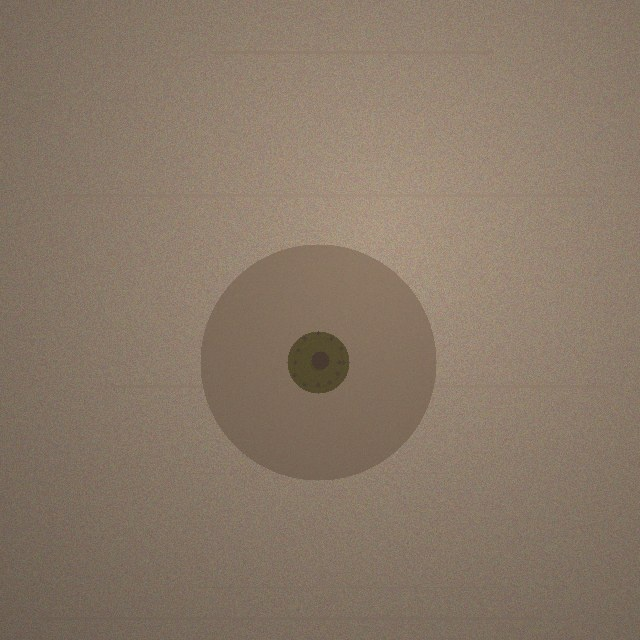cold_weld: (200, 244, 436, 480)
